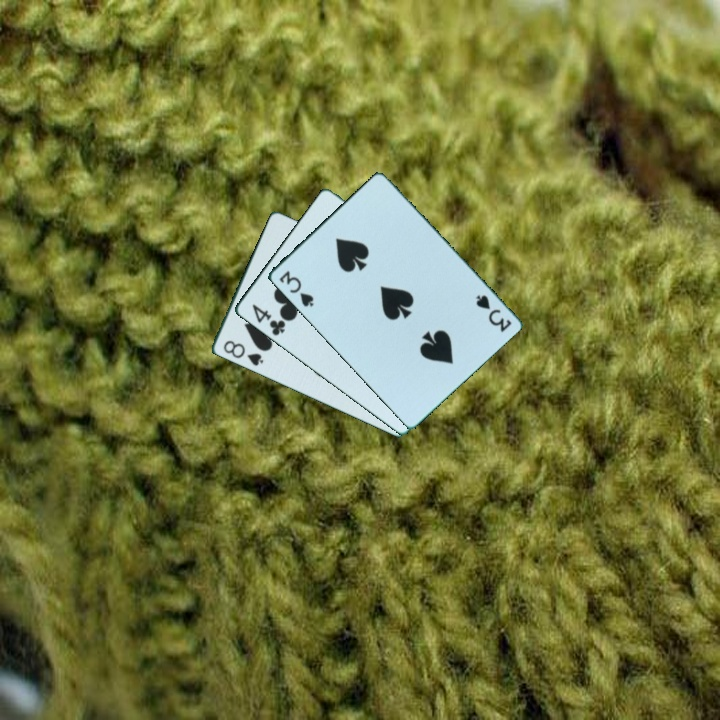3s: (471, 291, 514, 335), (275, 267, 317, 310)
4c: (248, 301, 288, 339)
8s: (219, 337, 266, 369)
